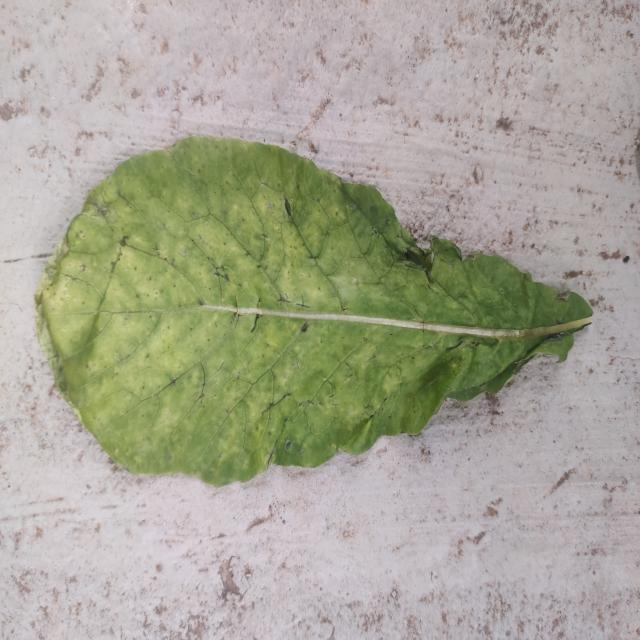black root rot raddish: (35, 137, 592, 485)
